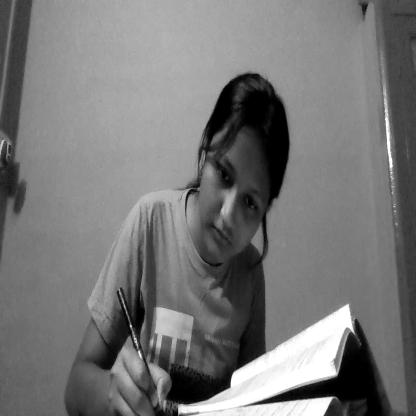Distracted: (192, 77, 296, 282)
